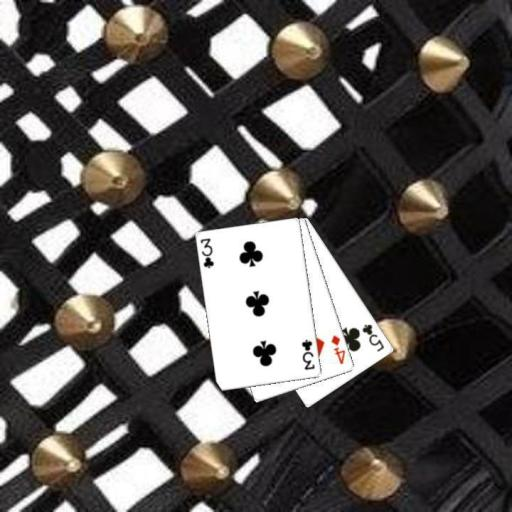card-corner: (359, 321, 386, 353), (298, 336, 316, 372), (329, 332, 347, 366), (198, 236, 216, 270)
